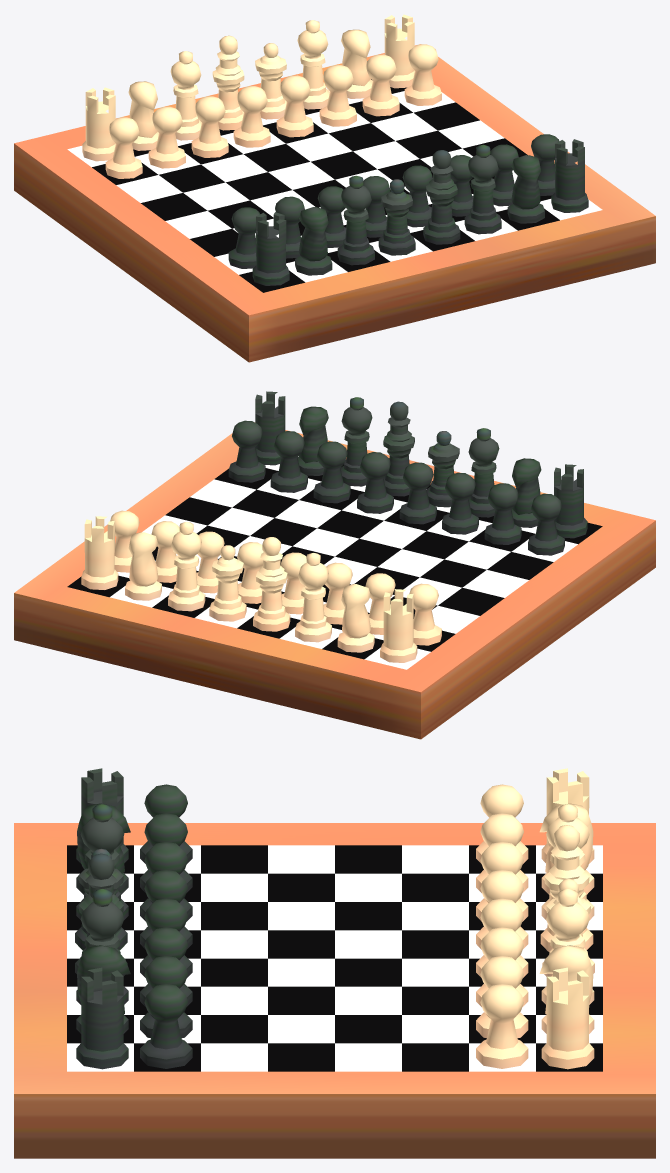
File: 399abc27-fd2a-4036-bb72-2ee92a63c068.glb
The picture shows the model from 3 angles, top to bottom: view 1: azimuth 30°, elevation 25°; view 2: azimuth 150°, elevation 25°; view 3: azimuth 270°, elevation 25°; orthographic projection. The views are drawn at different scales.
Visible parts, largest first — view 1: CheckersAndChessGameChess; view 2: CheckersAndChessGameChess; view 3: CheckersAndChessGameChess.
Boxes of the visible parts, bbox=[...] form: CheckersAndChessGameChess: bbox=[14, 14, 655, 362]; CheckersAndChessGameChess: bbox=[14, 391, 655, 739]; CheckersAndChessGameChess: bbox=[14, 768, 655, 1158].
Size of what is drawn, in the model's own units: 0.611 by 0.1919 by 0.611.
Materials: 1 (1 with a texture image).
